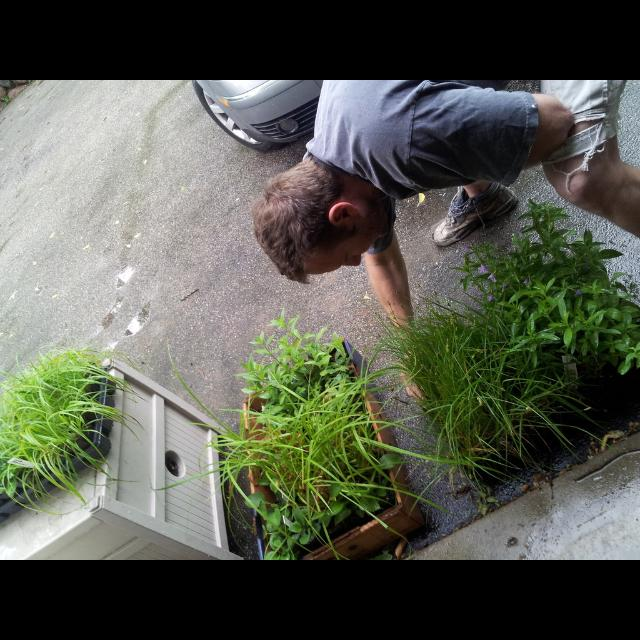Flower: (480, 258, 532, 306)
